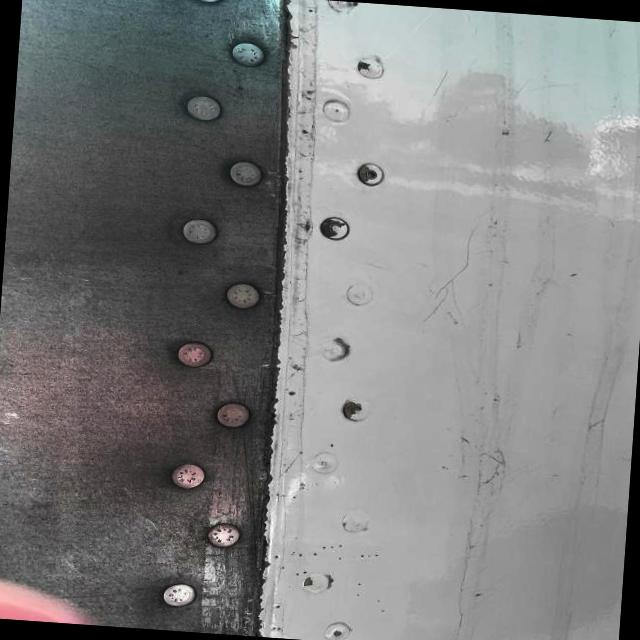crack: (428, 226, 490, 326), (476, 444, 510, 490)
